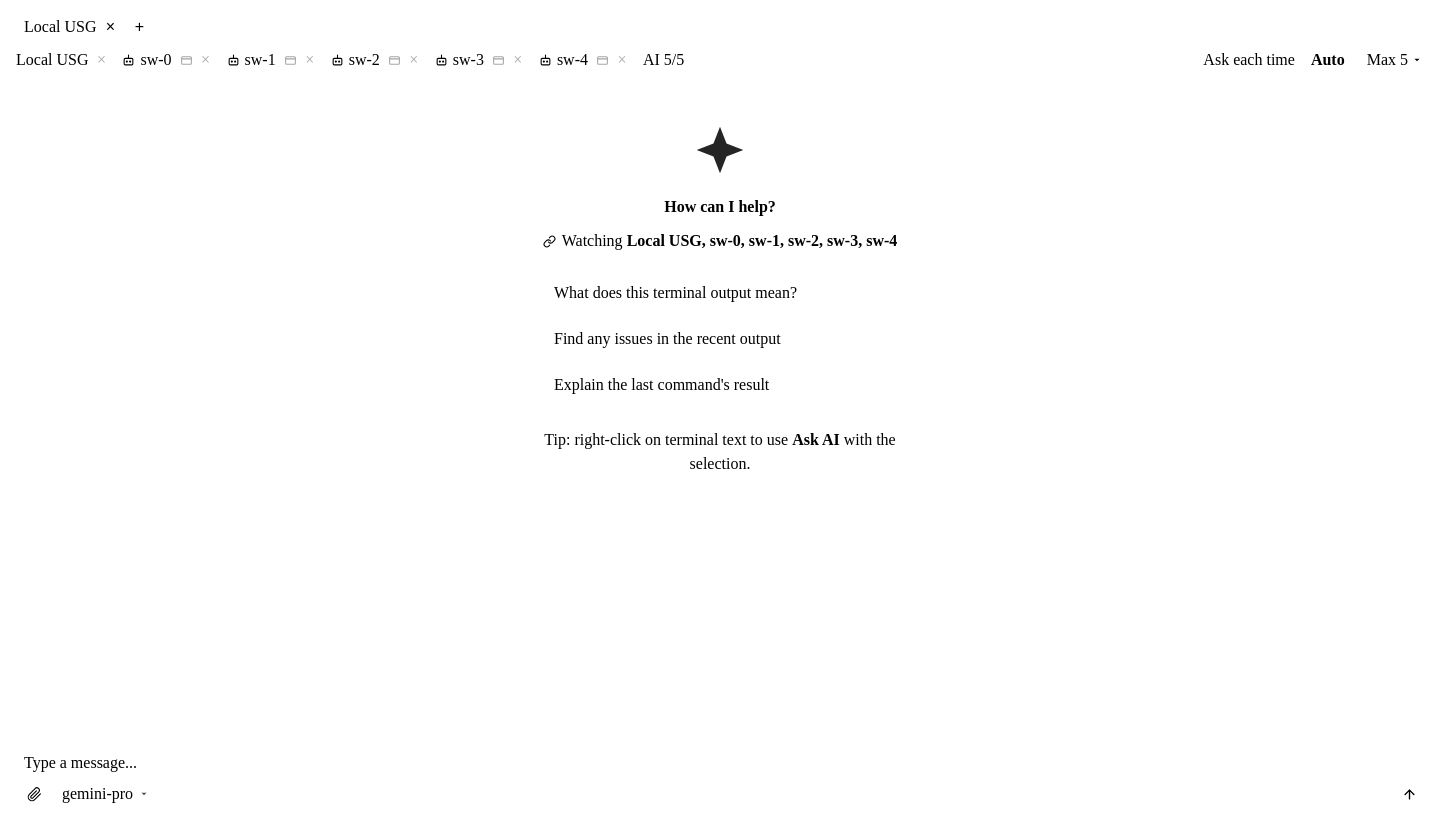
AIChatPane connect card — gate outcomes › refuses at the per-conversation cap with an envelope and no open
Type "ping the gateway" into the text box with placeholder "Type a message..." at (721, 762), box [20, 748, 1422, 776]
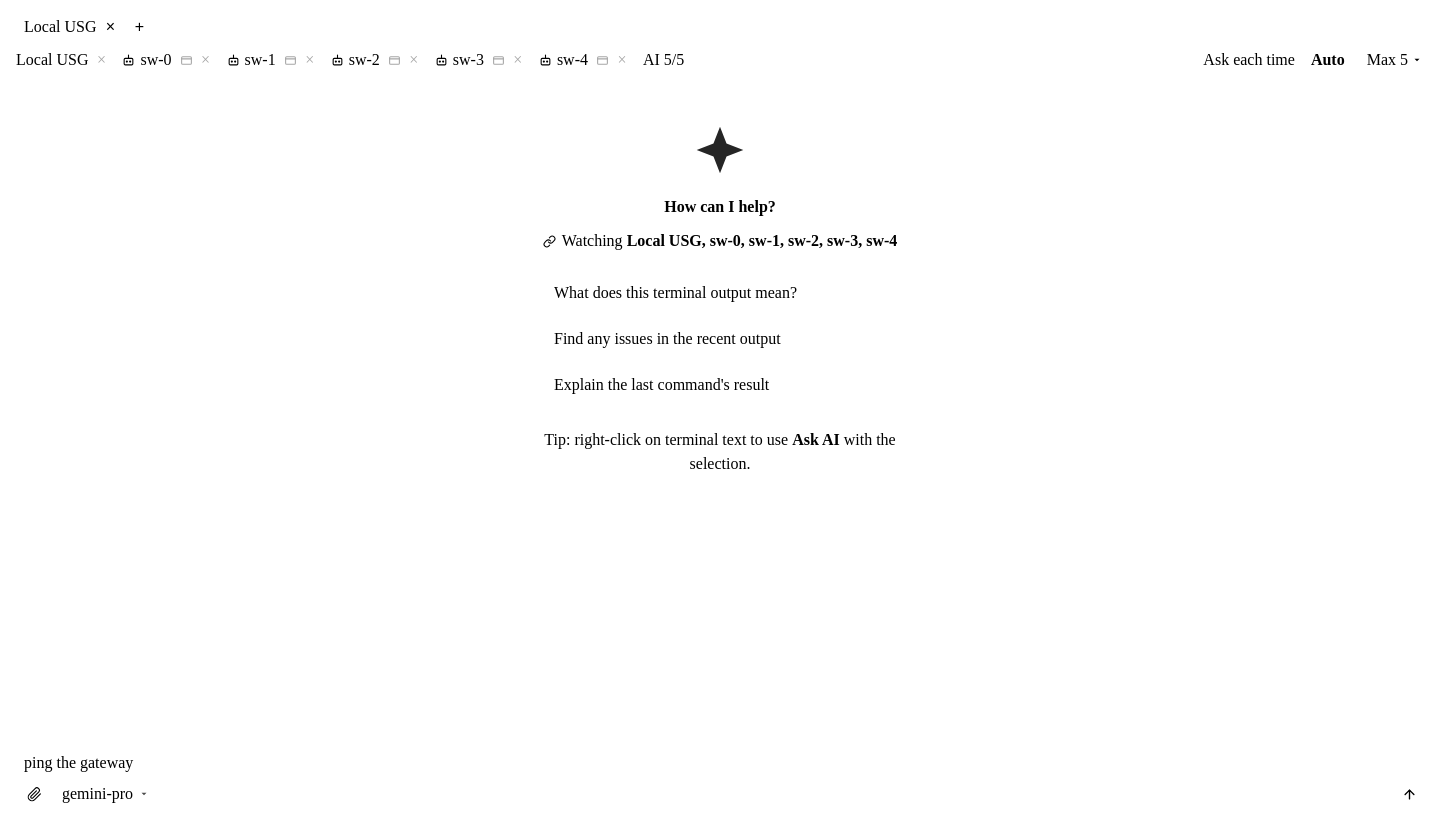
Press Enter in the text box with placeholder "Type a message...", box [20, 748, 1422, 776]
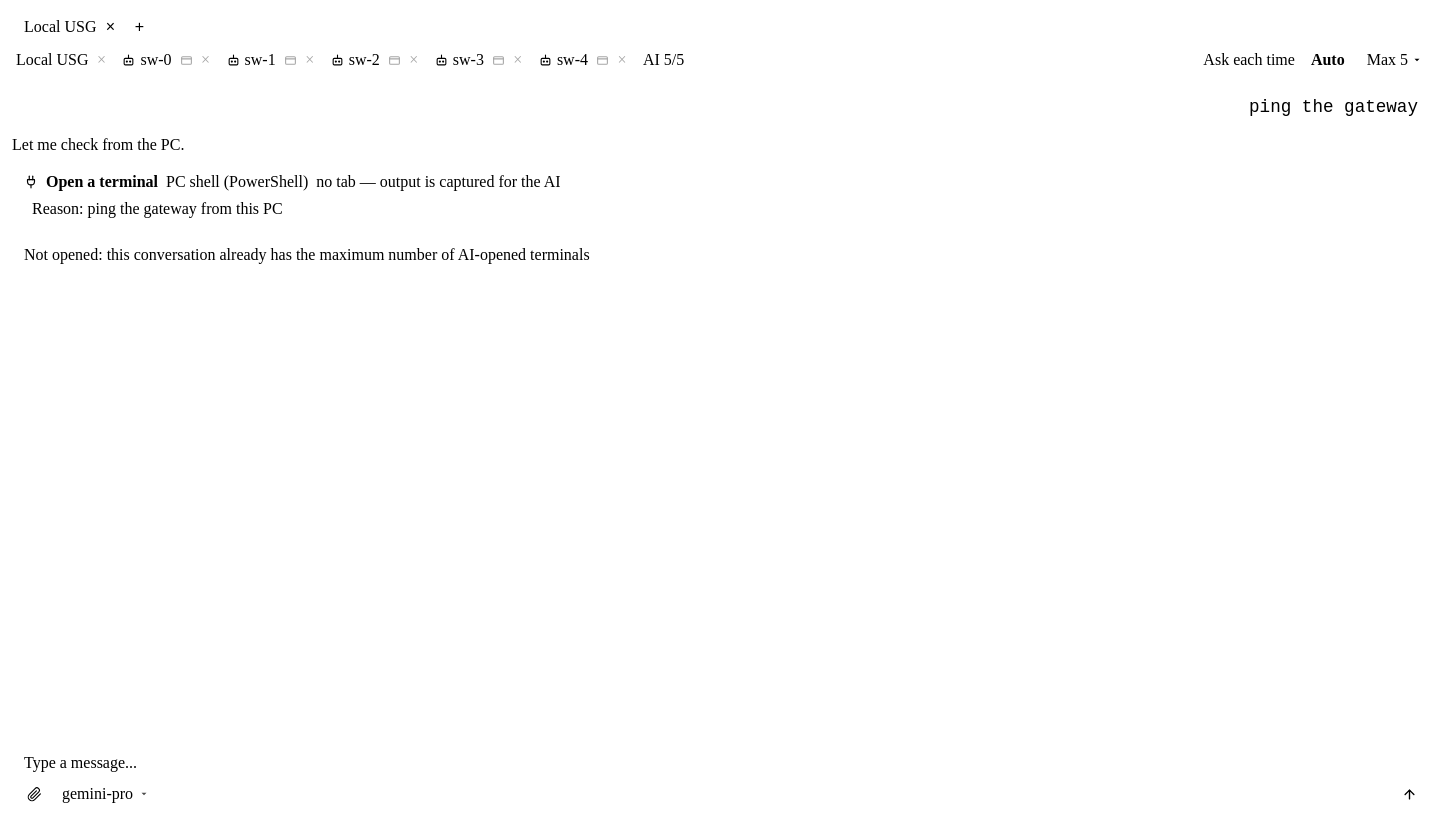
Expected: the text "AI 5/5" is shown, [643, 51, 684, 68]
Result: the text "Not opened: this conversation already has the maximum" is shown at [24, 246, 590, 263]
